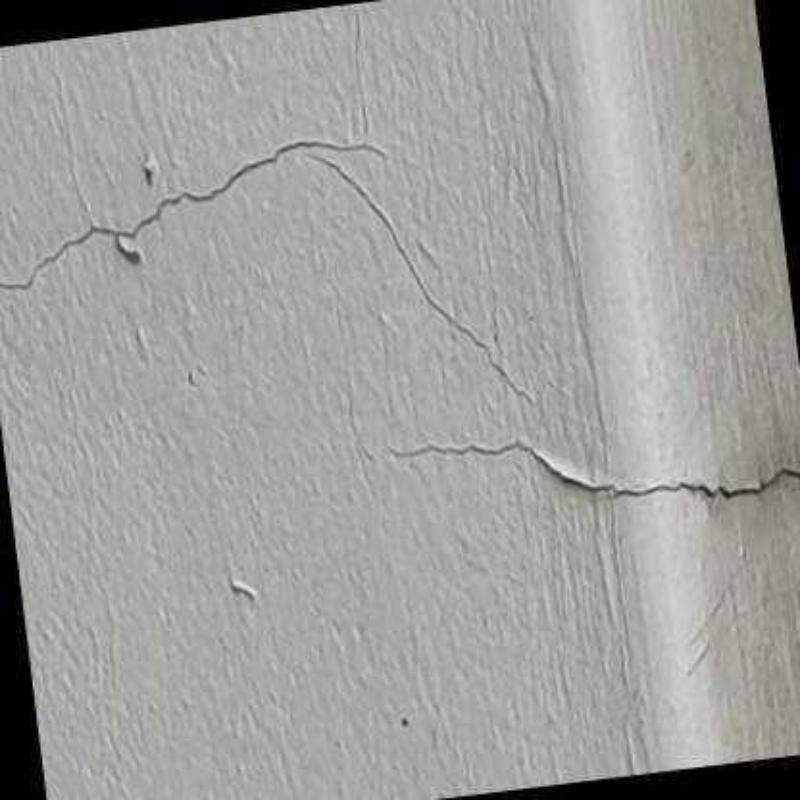crack: (0, 132, 519, 395), (406, 435, 800, 507)
